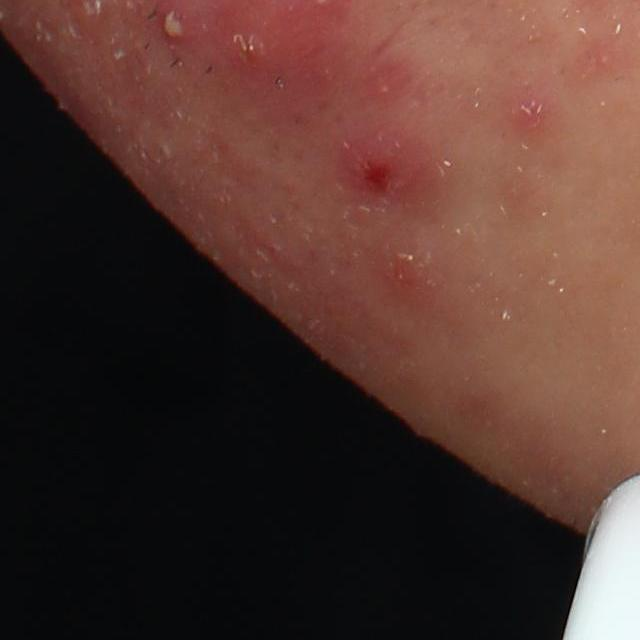papule: (315, 131, 445, 214), (377, 242, 428, 289), (508, 94, 555, 131)
pustule: (155, 3, 198, 50)
